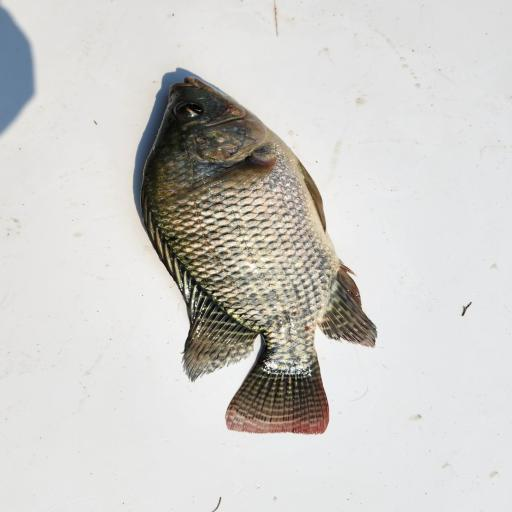Tilapia: (141, 76, 378, 435)
